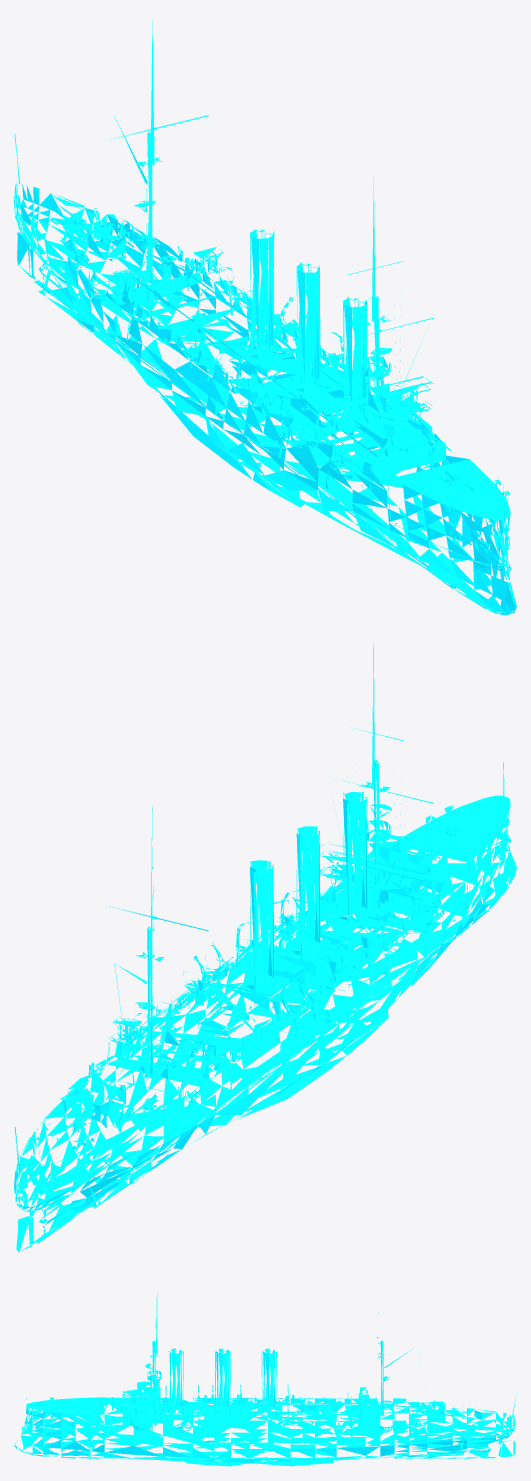
The model's file is PRSC002.glb.
3 views of the same model, one above another, from view 1: azimuth 30°, elevation 25°; view 2: azimuth 150°, elevation 25°; view 3: azimuth 270°, elevation 25° (orthographic). The views are drawn at different scales.
Visible parts, largest first — view 1: hull, turret; view 2: hull, turret; view 3: hull, turret.
Part boxes in pixels (left/top/right/bottom): hull: left=14, top=20, right=516, bottom=615; turret: left=59, top=205, right=474, bottom=490; hull: left=14, top=644, right=516, bottom=1252; turret: left=58, top=811, right=473, bottom=1134; hull: left=14, top=1293, right=516, bottom=1466; turret: left=58, top=1396, right=472, bottom=1428.
Size of the model in its own units: 1.32 by 3.29 by 8.46.
